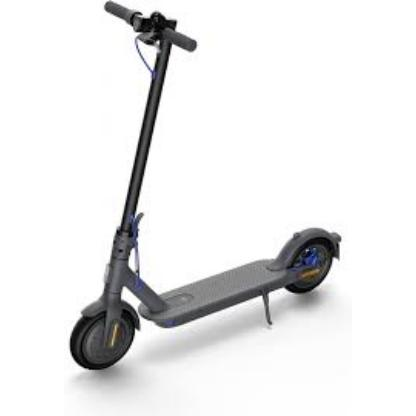bike: (68, 10, 343, 372)
